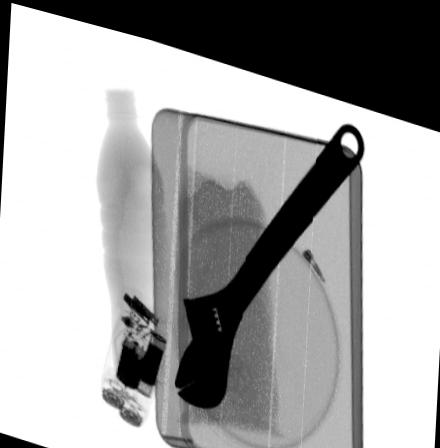Wrench: (172, 101, 364, 401)
